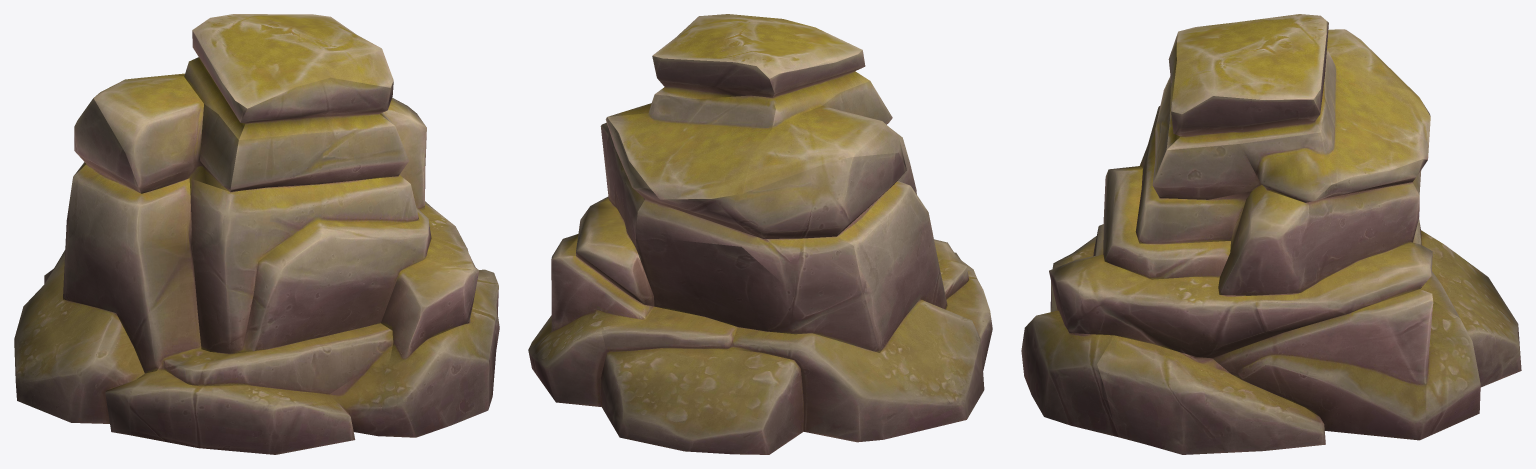
File: rock.dae
3 views of the same model, side by side, from view 1: azimuth 30°, elevation 25°; view 2: azimuth 150°, elevation 25°; view 3: azimuth 270°, elevation 25° (orthographic). The views are drawn at different scales.
Parts seen in each view (by area): view 1: Stone_low; view 2: Stone_low; view 3: Stone_low.
Part boxes in pixels (<box>): Stone_low: <box>14,14,499,454</box>; Stone_low: <box>528,14,992,454</box>; Stone_low: <box>1021,14,1521,454</box>.
Bounding box in the file's own units: 4.42 × 4.49 × 3.27.
Materials: 1 (1 with a texture image).
